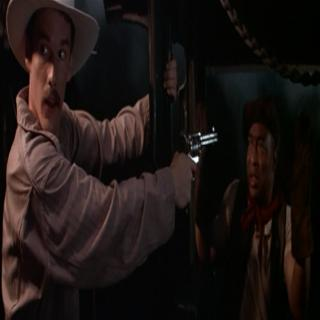gun: (175, 109, 222, 202)
